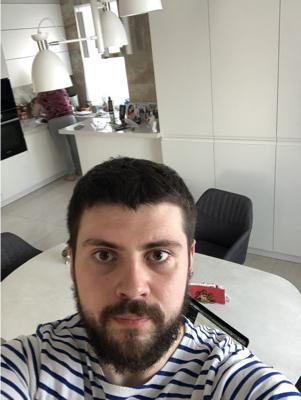without_mask: (76, 222, 186, 373)
